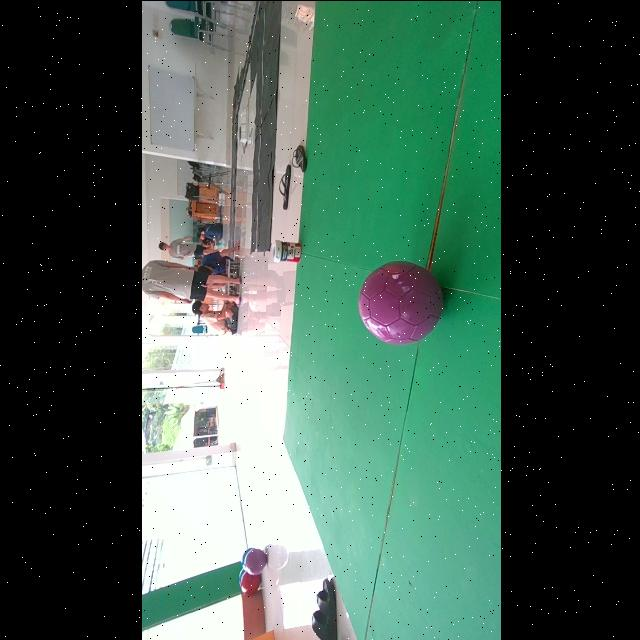B: (356, 261, 442, 344)
P: (242, 549, 265, 576)
R: (238, 572, 260, 595)
